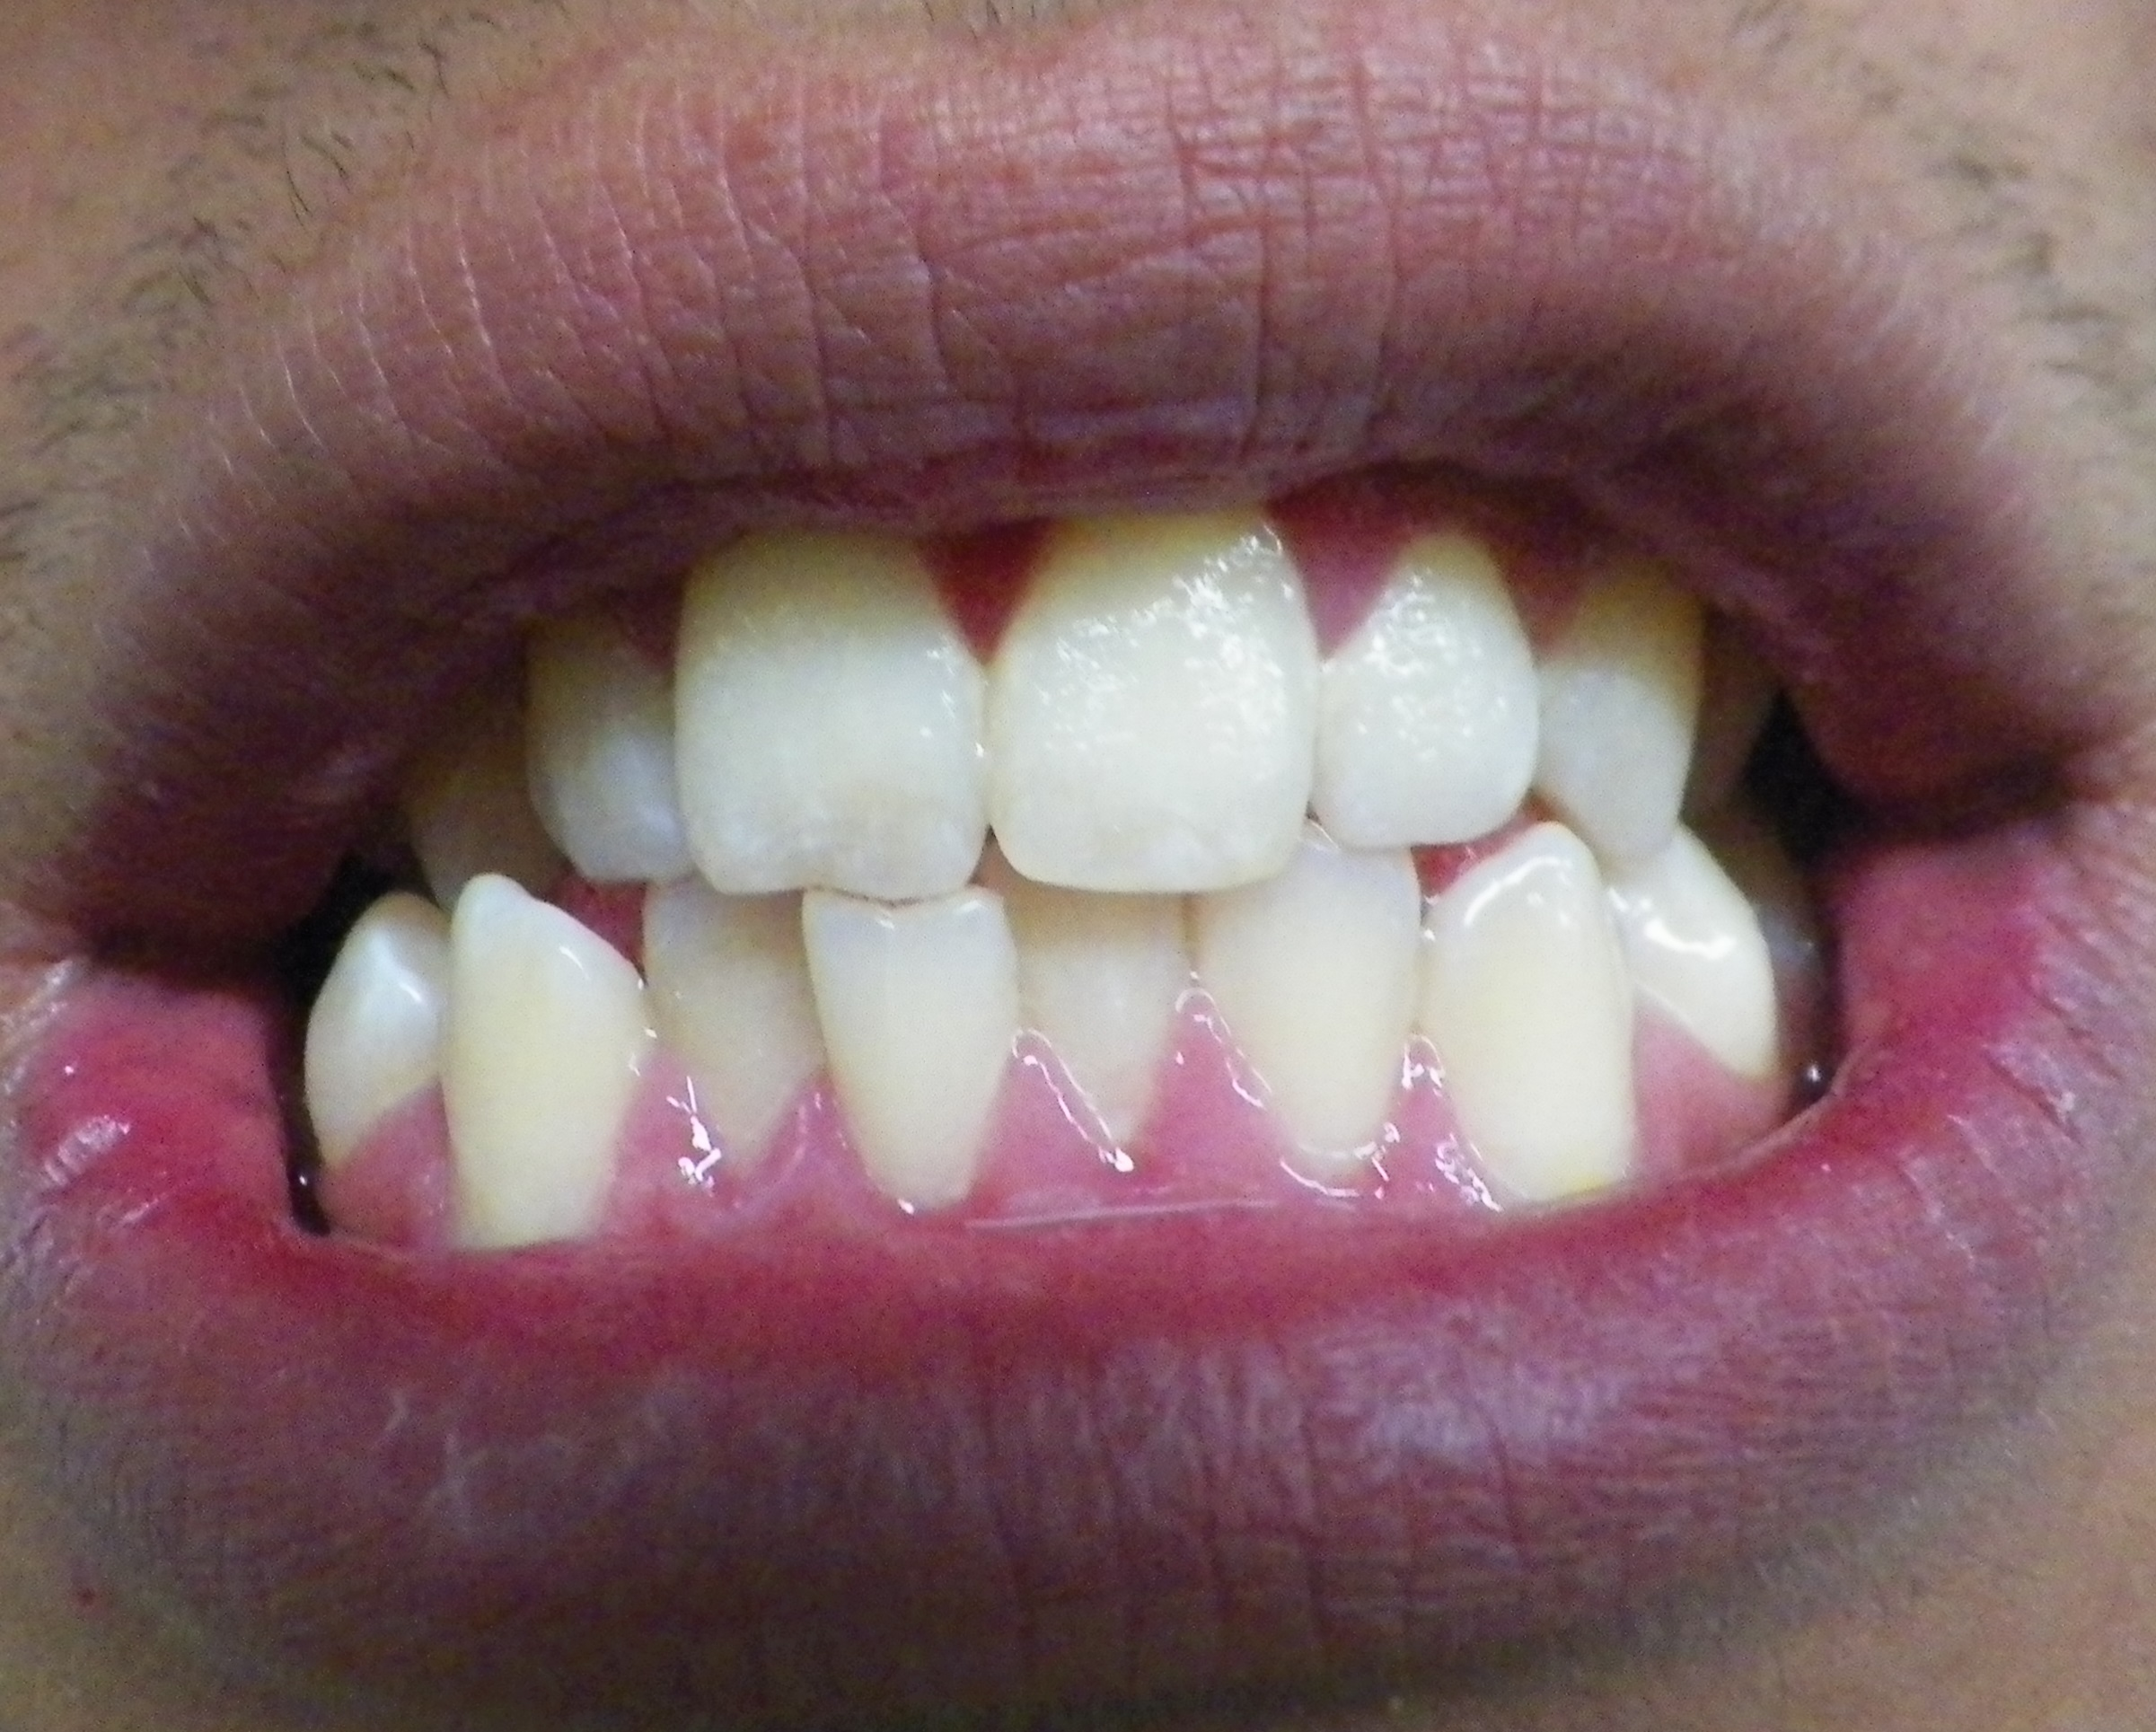boca: (290, 513, 1849, 1216)
